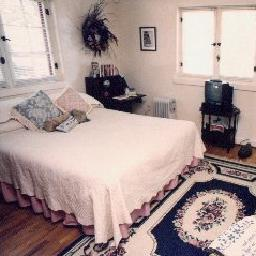Cama: (2, 95, 202, 242)
